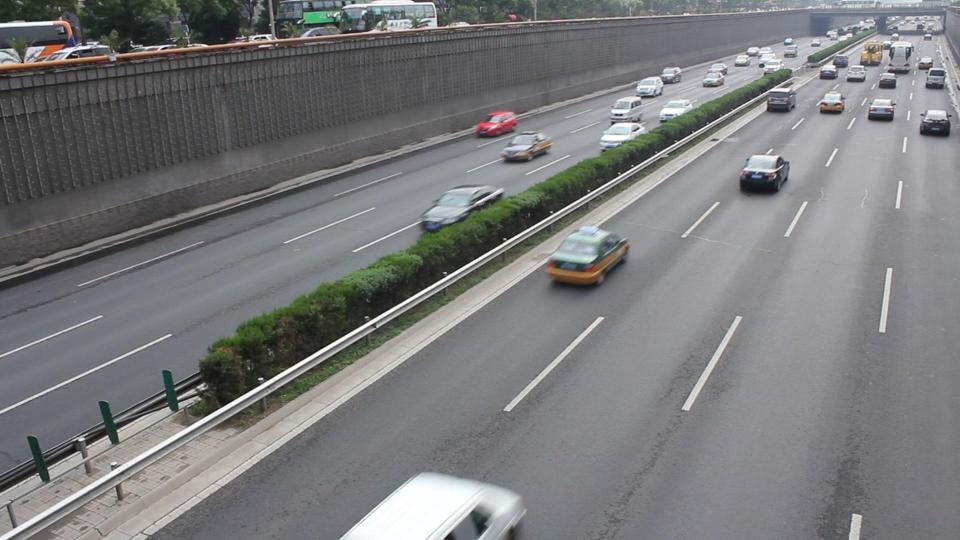Car: (543, 227, 627, 284), (417, 184, 503, 234), (736, 154, 787, 194), (500, 130, 551, 162), (599, 121, 643, 153)
